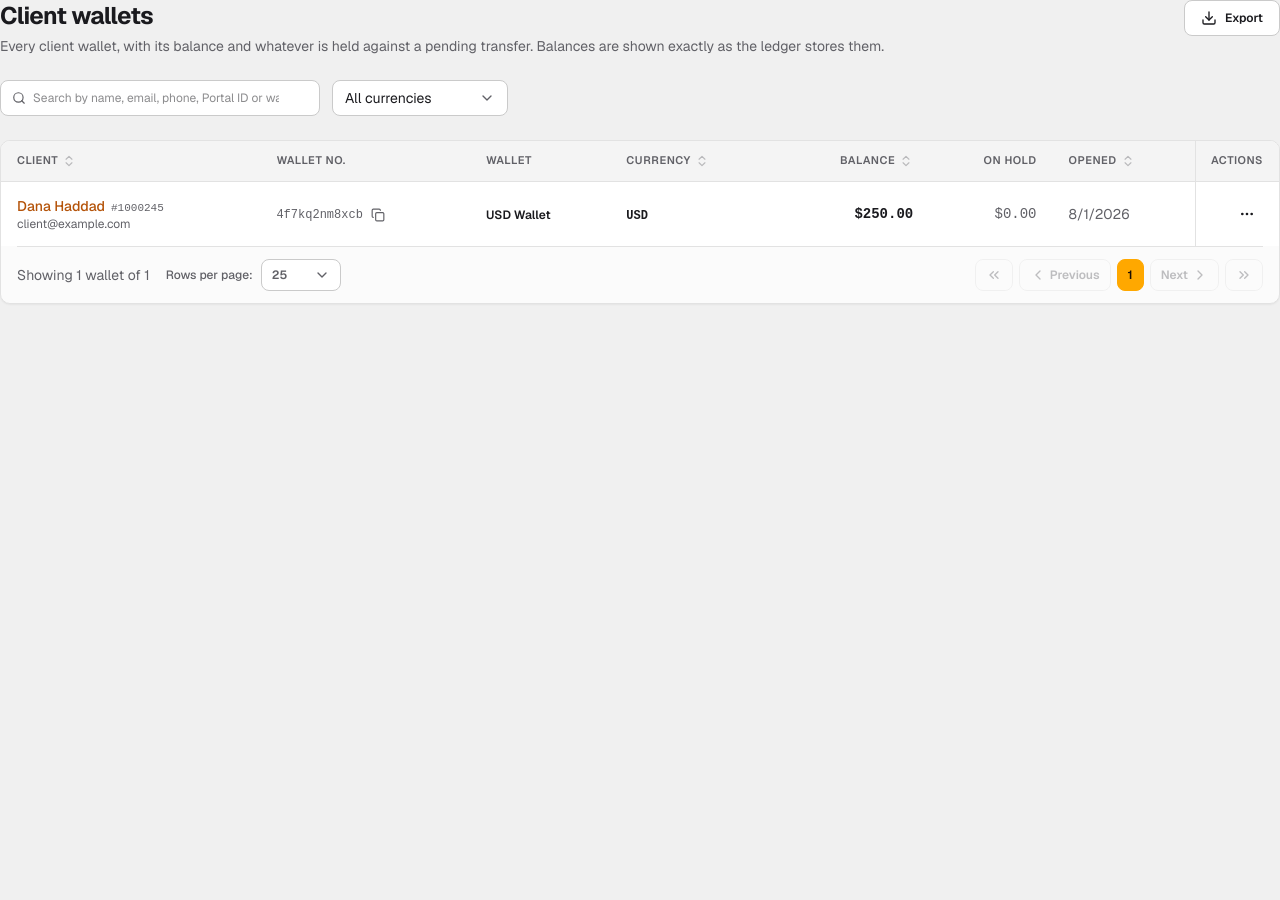
Test: wallets — one write action, and only one › asks before closing, and shows the API refusal in the dialog
This screenshot has width=1280, height=900.
expect the text "client@example.com" is shown: met, box [17,216,131,232]
What coordinates should you click on to do the following:
click the button named "actions for"
I would click on:
 (1247, 214)
Its box is [1231,198,1263,230].
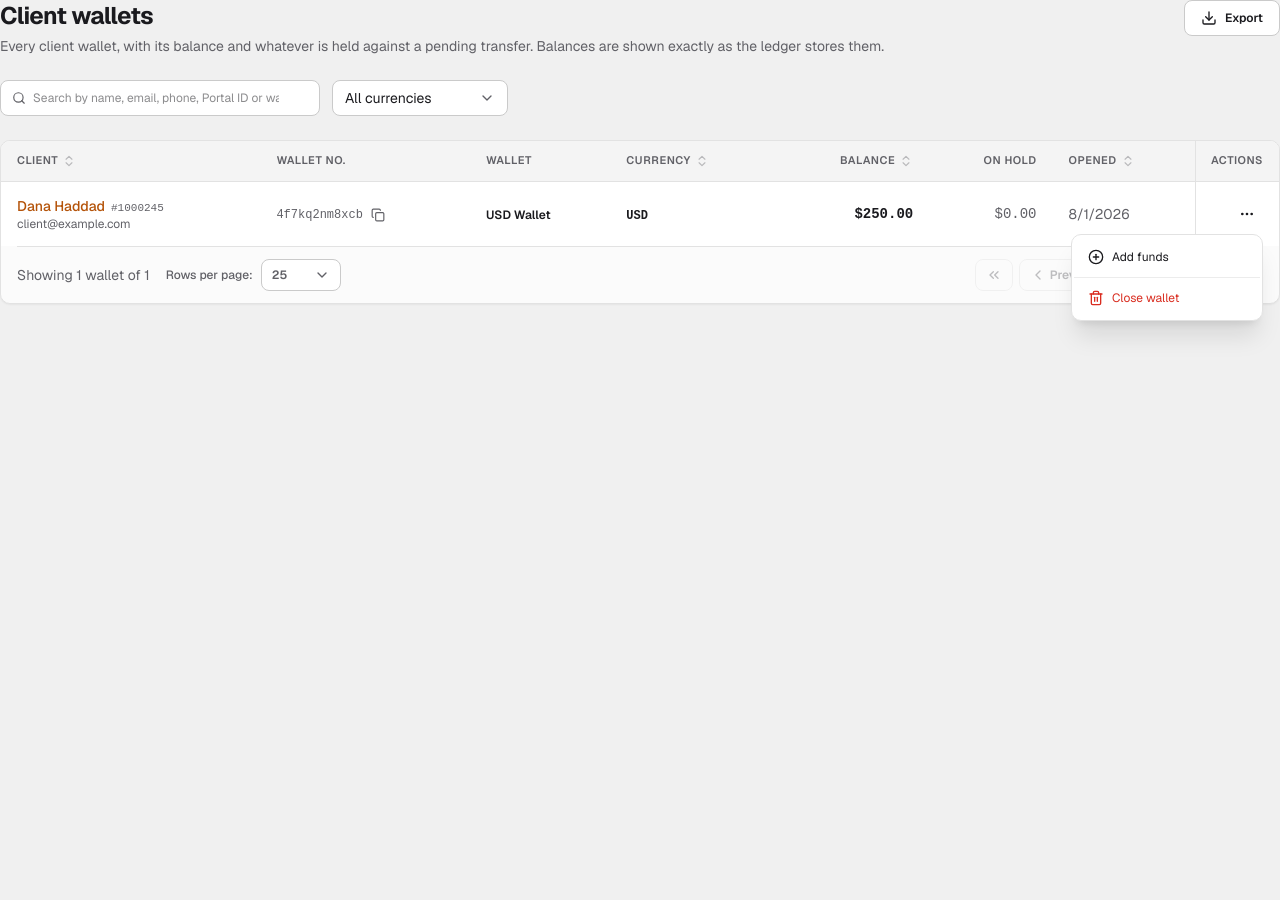
What coordinates should you click on to do the following:
click the menu item "Close wallet"
I would click on:
 (1134, 298)
Its box is [1088,290,1179,306].
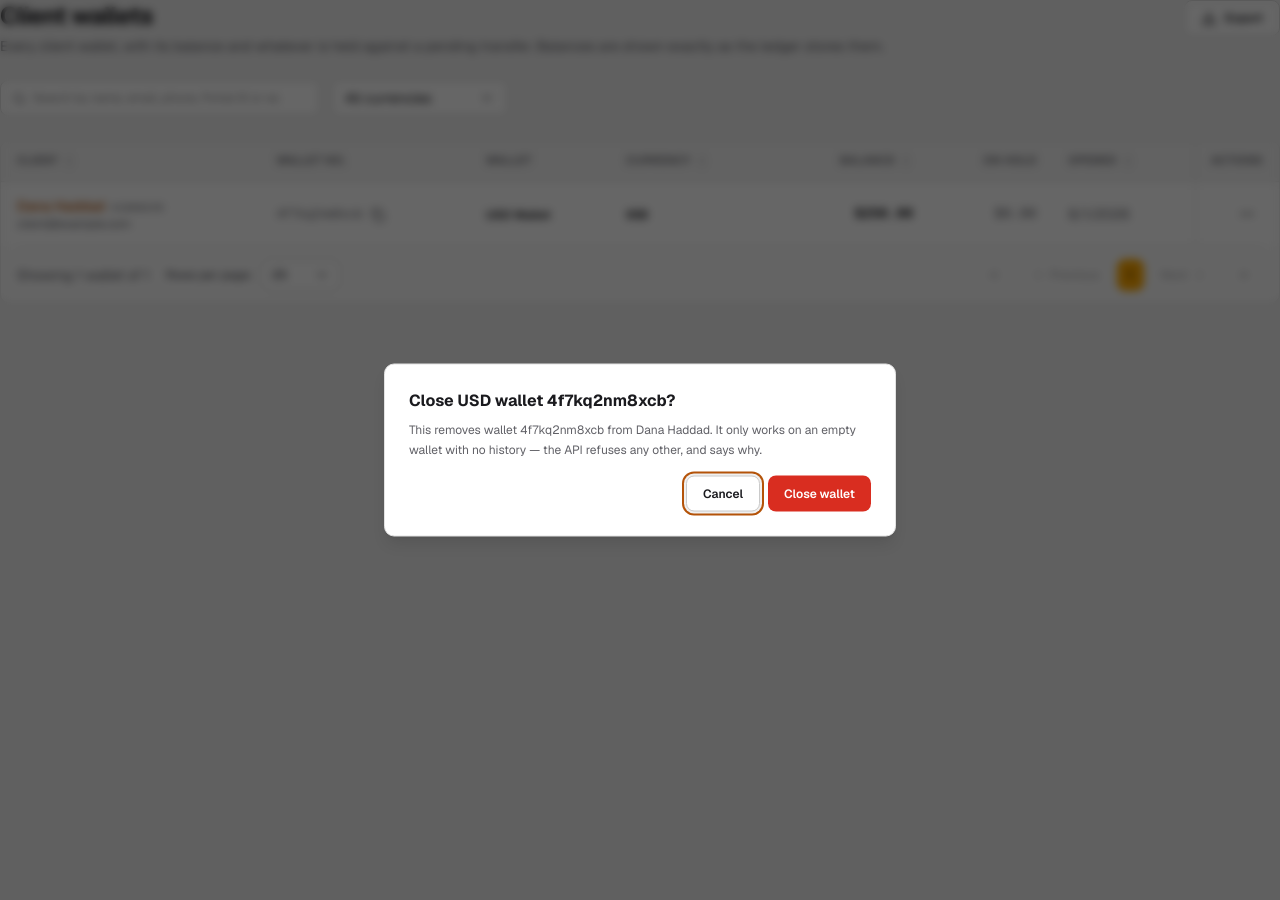
What coordinates should you click on to do the following:
click the button "Close wallet"
I would click on:
 (820, 494)
Its box is [768,476,871,512].
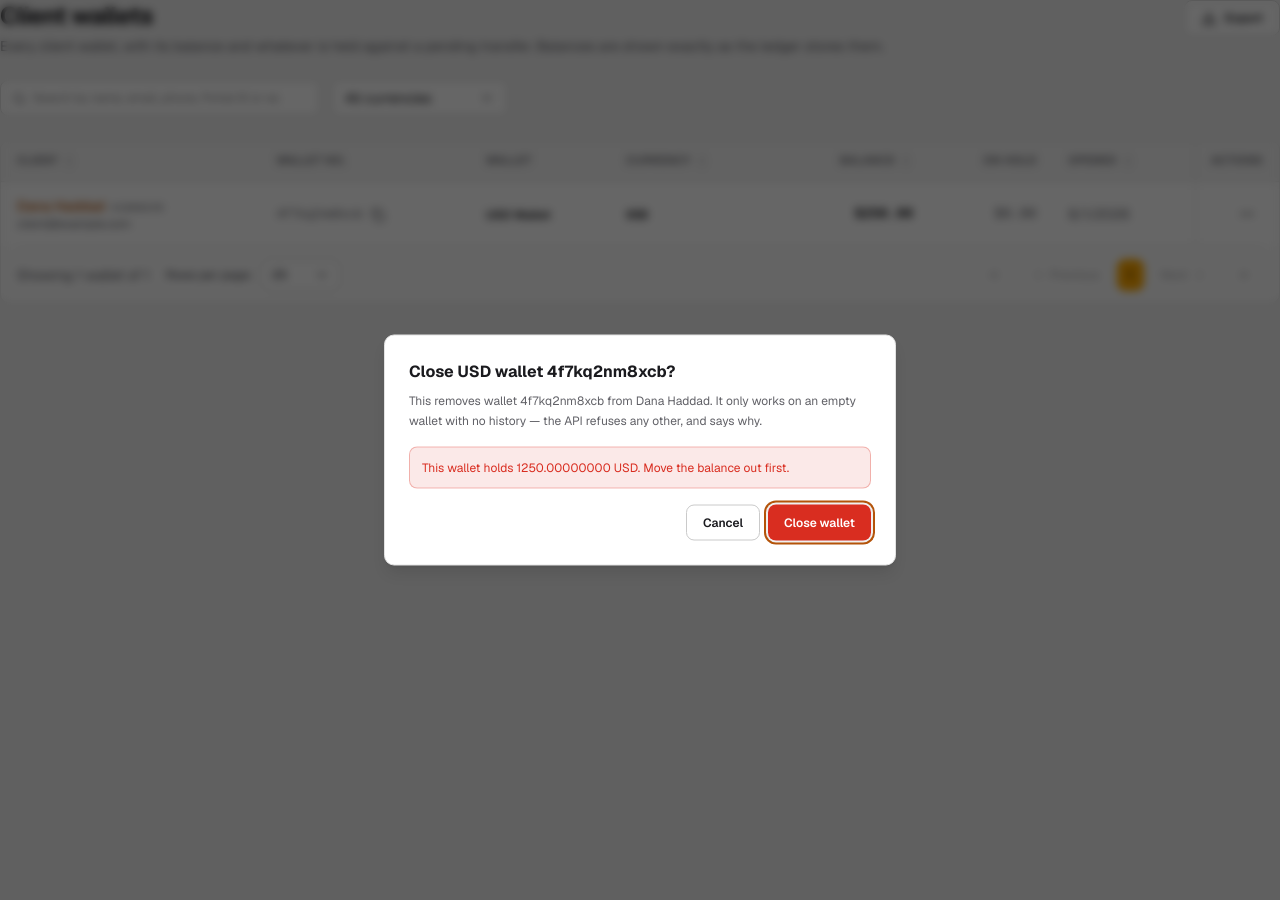
expect the text "This wallet holds 1250.00000000 USD. Move the balance out first." is shown: met, box [409,446,871,488]
